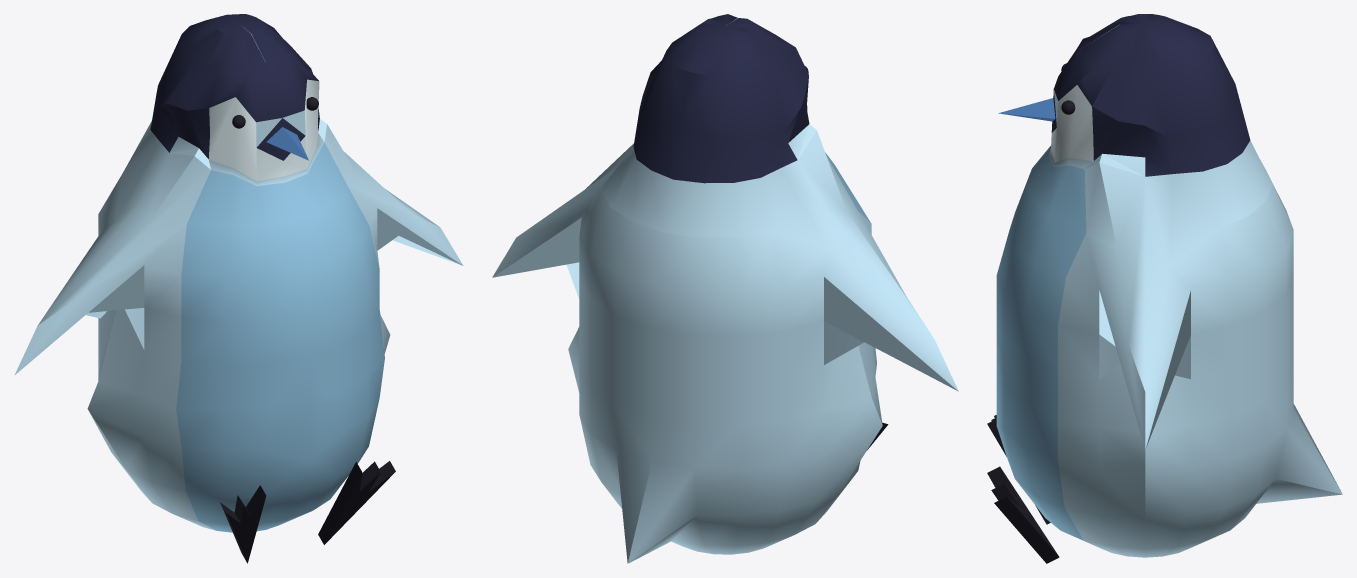
File: penguin2-1.fbx
3 views of the same model, side by side, from view 1: azimuth 30°, elevation 25°; view 2: azimuth 150°, elevation 25°; view 3: azimuth 270°, elevation 25° (orthographic). The views are drawn at different scales.
Parts seen in each view (by area): view 1: body, foot, kuchibashi; view 2: body; view 3: body, foot, kuchibashi.
Part boxes in pixels (x1,y1,x2,y2): body: (14,14,463,532); foot: (220,461,395,563); kuchibashi: (266,127,308,160); body: (492,14,958,563); body: (996,14,1342,557); foot: (987,415,1059,563); kuchibashi: (998,98,1055,121).
Size of the model in its own units: 183 by 194 by 120.
